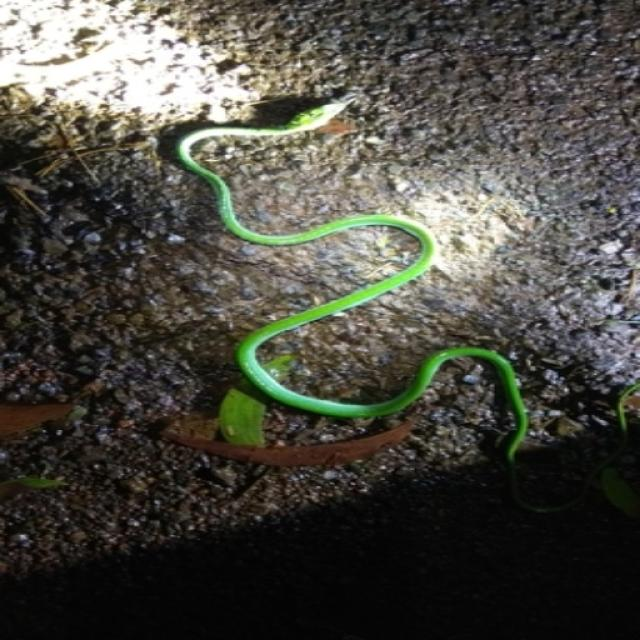snake: (164, 88, 560, 464)
